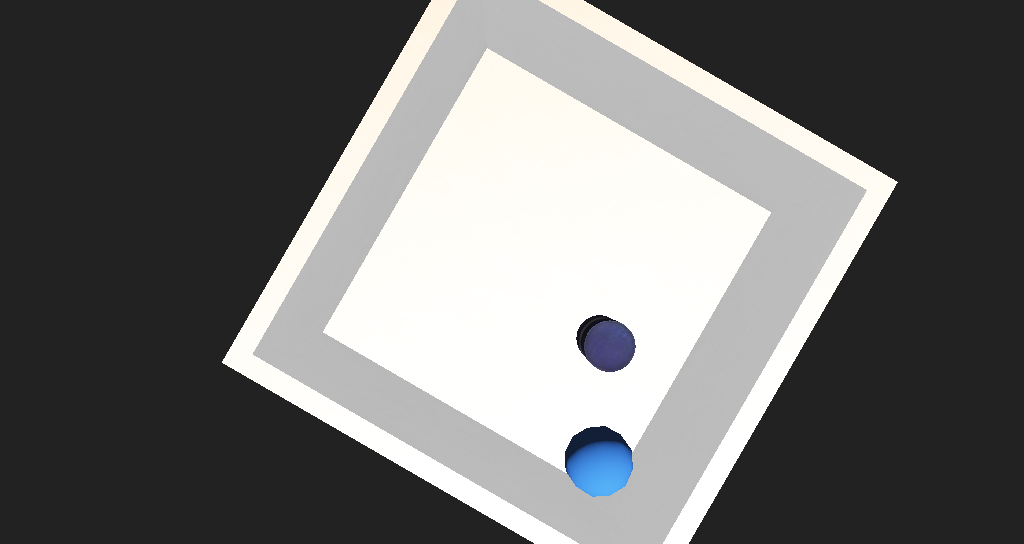cone: (455, 308, 502, 341)
sphere: (344, 336, 411, 379)
